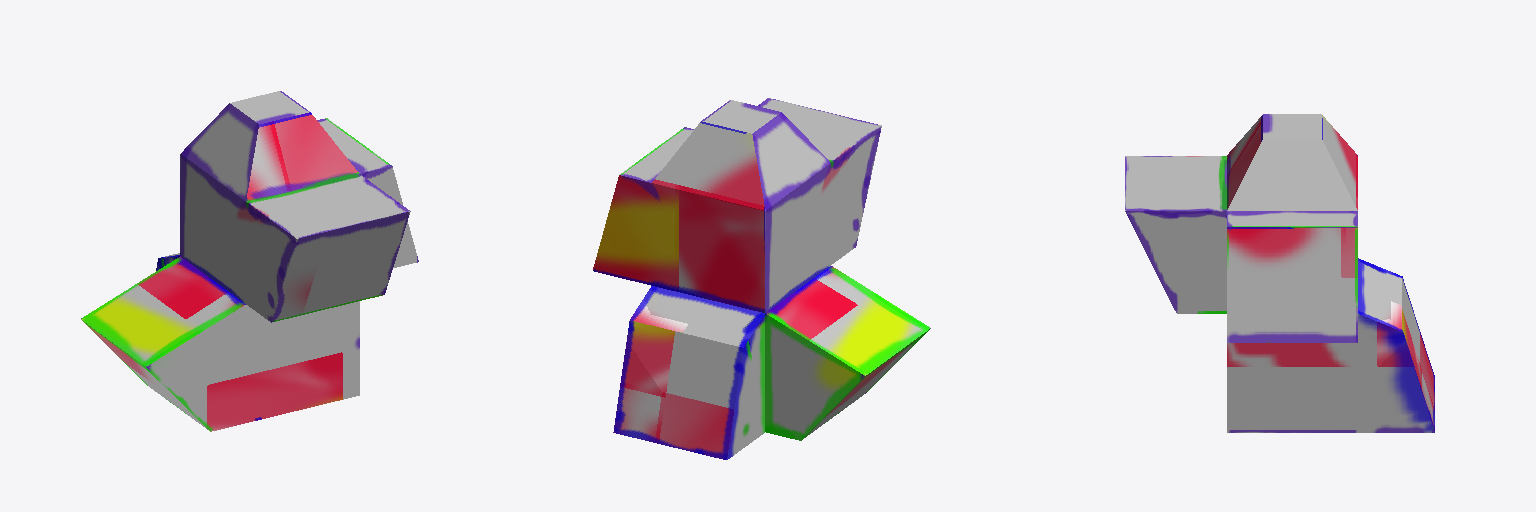
3 renders of one model, left to right at view 1: azimuth 30°, elevation 25°; view 2: azimuth 150°, elevation 25°; view 3: azimuth 270°, elevation 25°, orthographic.
Parts seen in each view (by area): view 1: Cube, Cube.001; view 2: Cube, Cube.001; view 3: Cube, Cube.001.
Boxes of the visible parts, x1=… form: Cube: x1=81, y1=91, x2=418, y2=431; Cube.001: x1=181, y1=104, x2=410, y2=322; Cube: x1=593, y1=98, x2=930, y2=459; Cube.001: x1=660, y1=100, x2=881, y2=239; Cube: x1=1125, y1=114, x2=1434, y2=432; Cube.001: x1=1136, y1=114, x2=1357, y2=313.
Size of the model in its own units: 4.8 by 4.67 by 4.72.
2 materials, 1 textured.